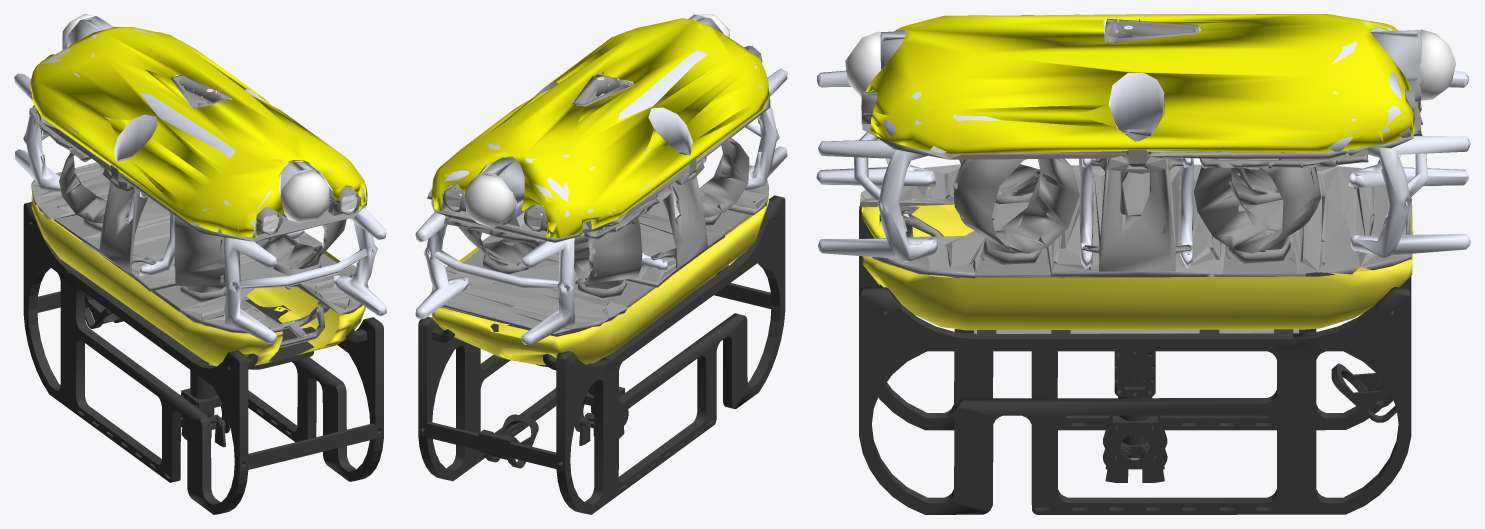
Rendered from colrov_complete2.dae.
3 views of the same model, side by side, from view 1: azimuth 30°, elevation 25°; view 2: azimuth 150°, elevation 25°; view 3: azimuth 270°, elevation 25° (orthographic). The views are drawn at different scales.
Visible parts, largest first — view 1: colrov_vis_empty; view 2: colrov_vis_empty; view 3: colrov_vis_empty.
Part boxes in pixels (bbox=[...]): colrov_vis_empty: bbox=[14, 14, 386, 514]; colrov_vis_empty: bbox=[415, 14, 787, 514]; colrov_vis_empty: bbox=[816, 14, 1470, 514].
Size of the model in its own units: 0.431 by 1.01 by 0.7775.
